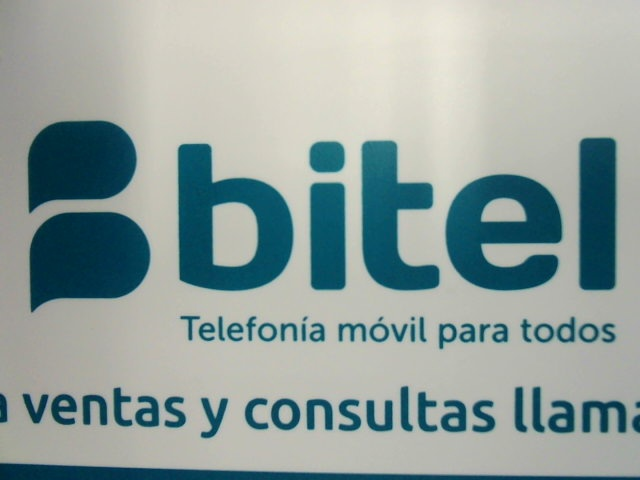BE_bitel: (21, 112, 623, 312)
